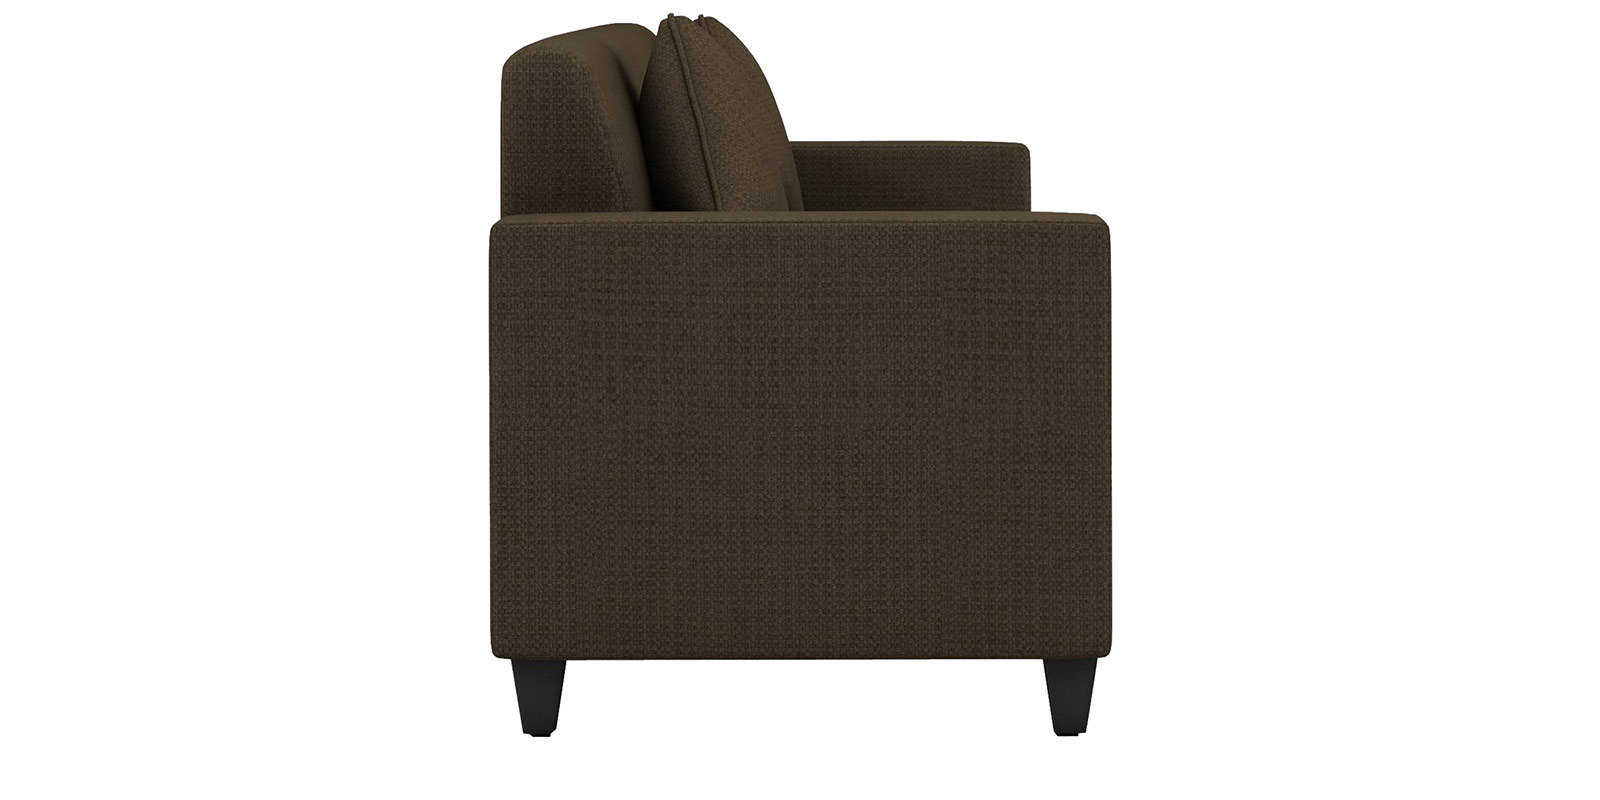Cooper Three Seater Sofa in Beige Colour by ARRA: (468, 7, 1133, 738)
